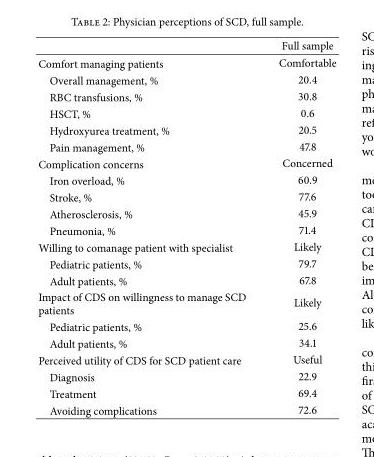table: (37, 37, 335, 417)
table column: (37, 37, 261, 417), (261, 37, 335, 417)
table column header: (37, 37, 335, 53)
table row: (37, 288, 335, 317), (37, 53, 335, 71), (37, 87, 335, 104), (37, 104, 335, 121), (37, 137, 335, 154), (37, 154, 335, 171), (37, 171, 335, 188), (37, 204, 335, 221), (37, 221, 335, 238), (37, 238, 335, 255), (37, 271, 335, 288), (37, 317, 335, 334), (37, 334, 335, 351), (37, 367, 335, 384), (37, 384, 335, 401), (37, 37, 335, 53), (37, 71, 335, 87), (37, 121, 335, 137), (37, 188, 335, 204), (37, 255, 335, 271), (37, 351, 335, 367), (37, 401, 335, 417)
